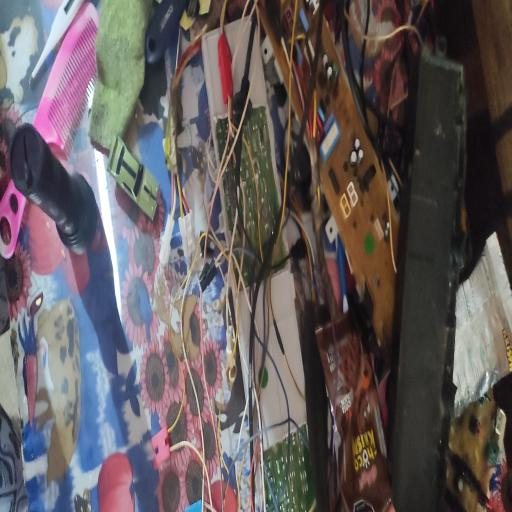Carrito: (107, 135, 160, 220)
